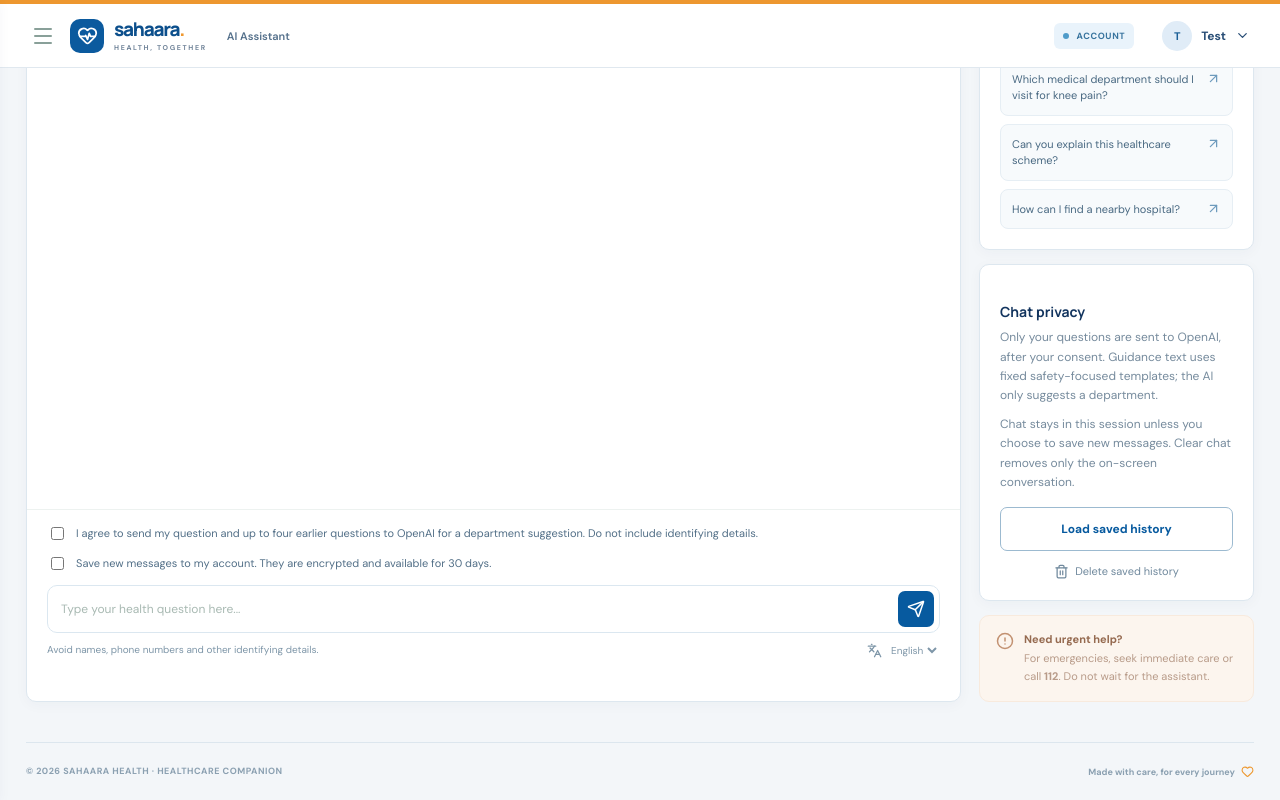
Test: account assistant sends explicit consent and handles saved history
This screenshot has width=1280, height=800.
Earlier steps of the test are not shown.
(page scrolled)
Click the checkbox labelled "I agree to send my question" at (58, 533), box [51, 527, 64, 540]
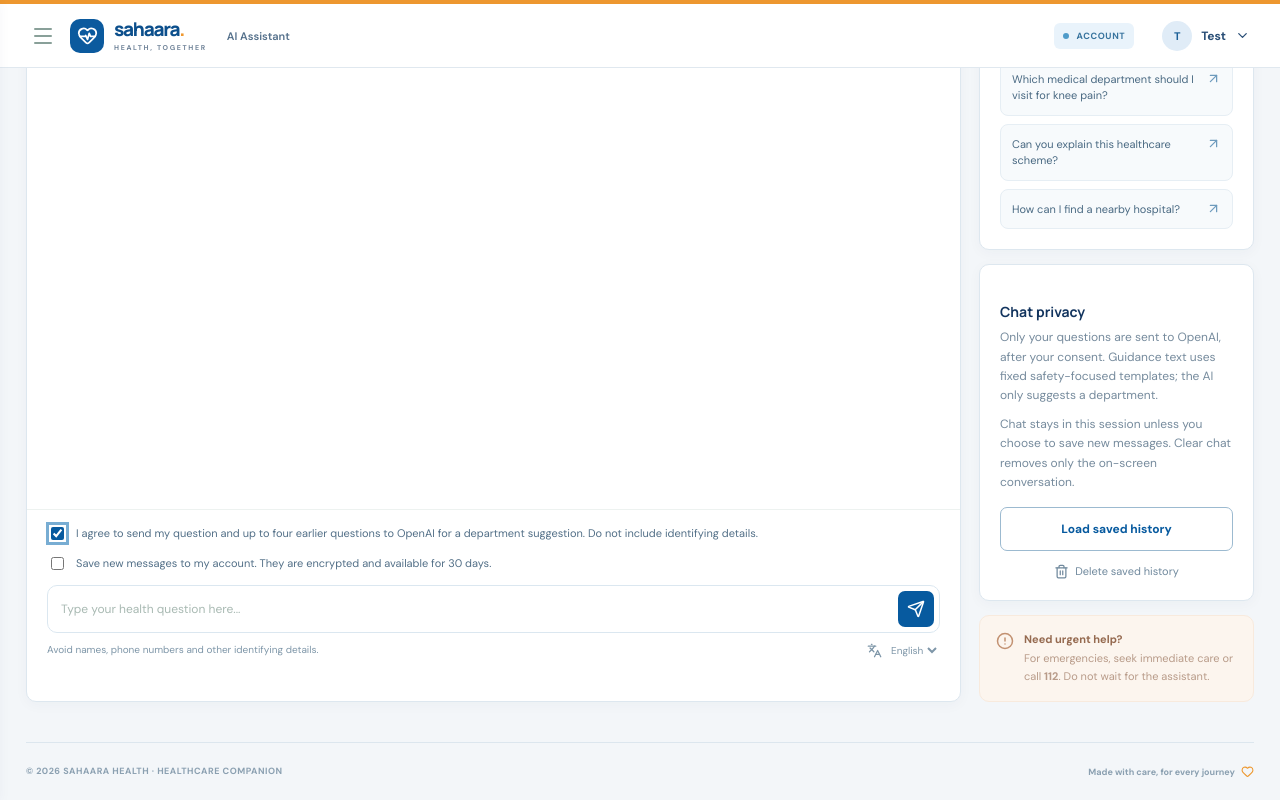
Click the checkbox labelled "Save new messages" at (58, 563), box [51, 557, 64, 570]
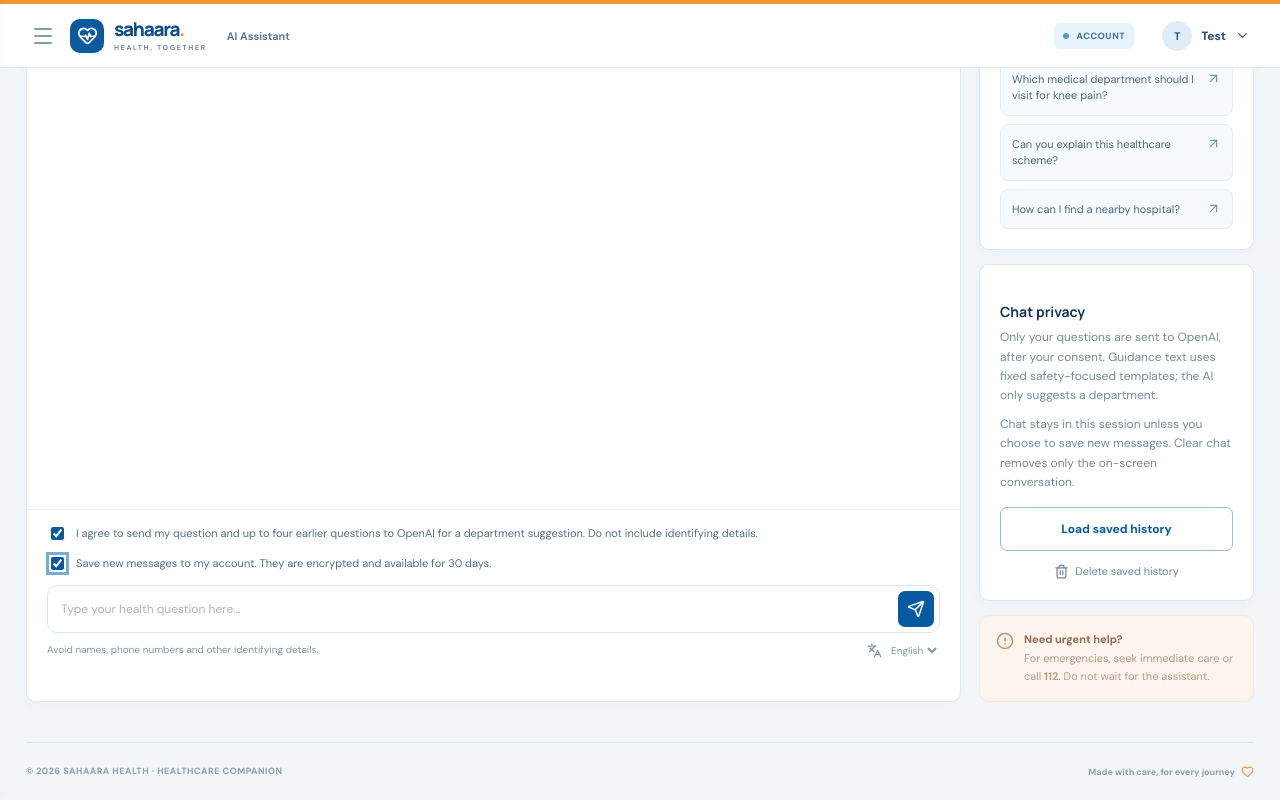
Type "knee pain" into the field labelled "health question" at (472, 609), box [53, 593, 890, 625]
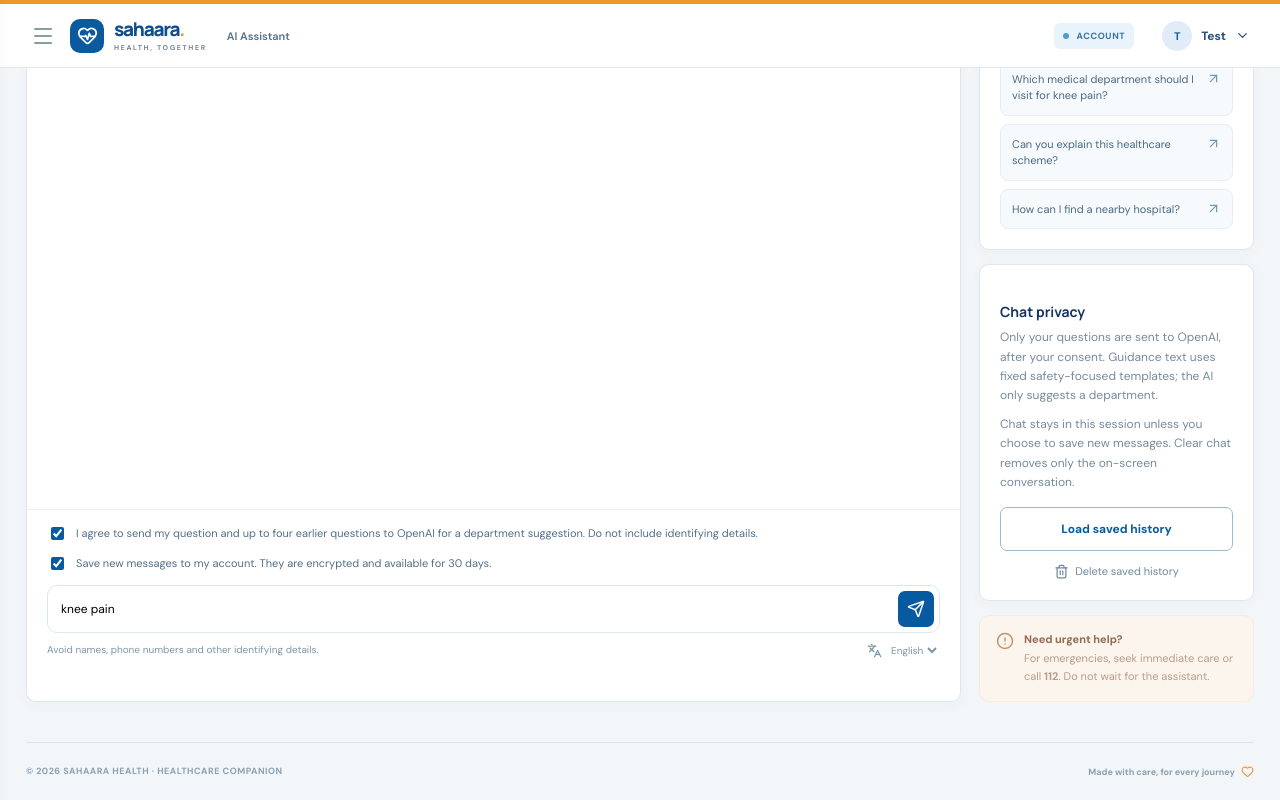
Click the button named "Send message" at (916, 609), box [898, 591, 934, 627]
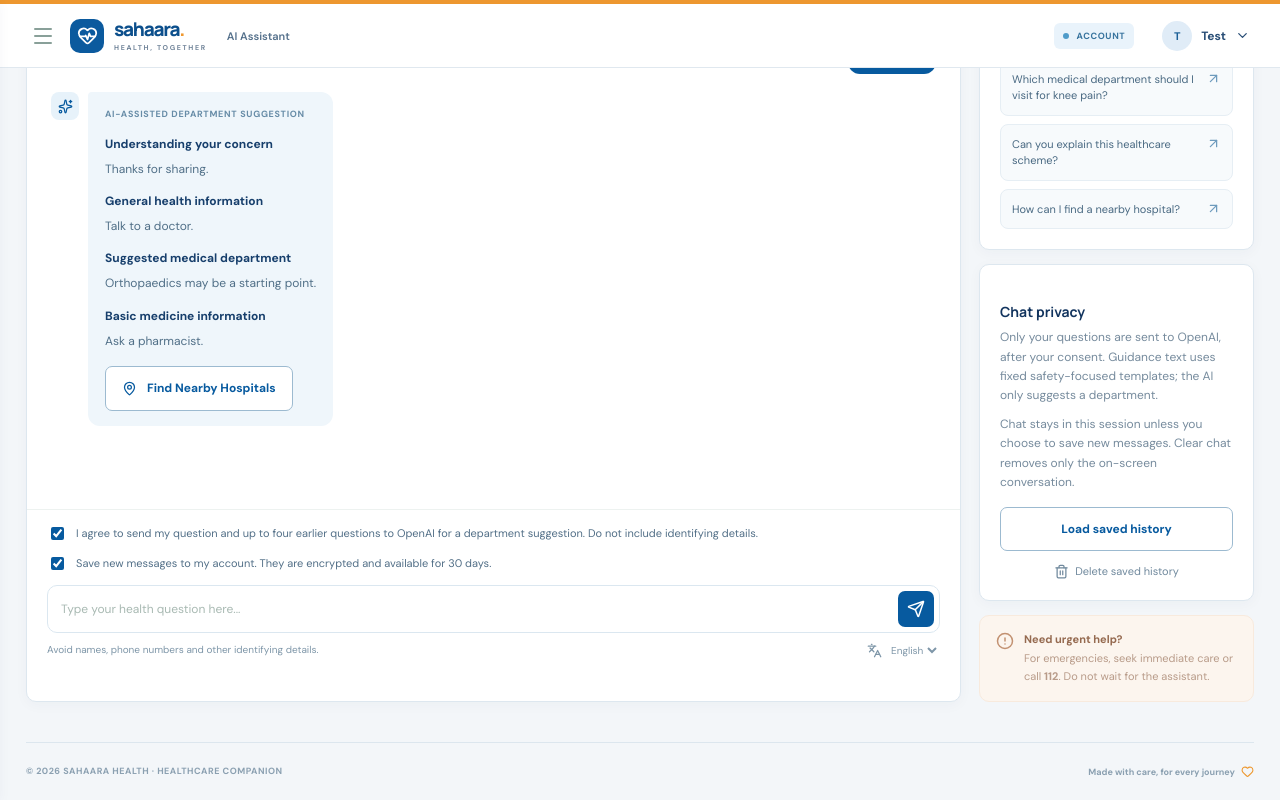
Check: the text "Orthopaedics may be a starting point." is shown, box [105, 274, 316, 294]
Click the button "Load saved history" at (1116, 529), box [1000, 507, 1233, 551]
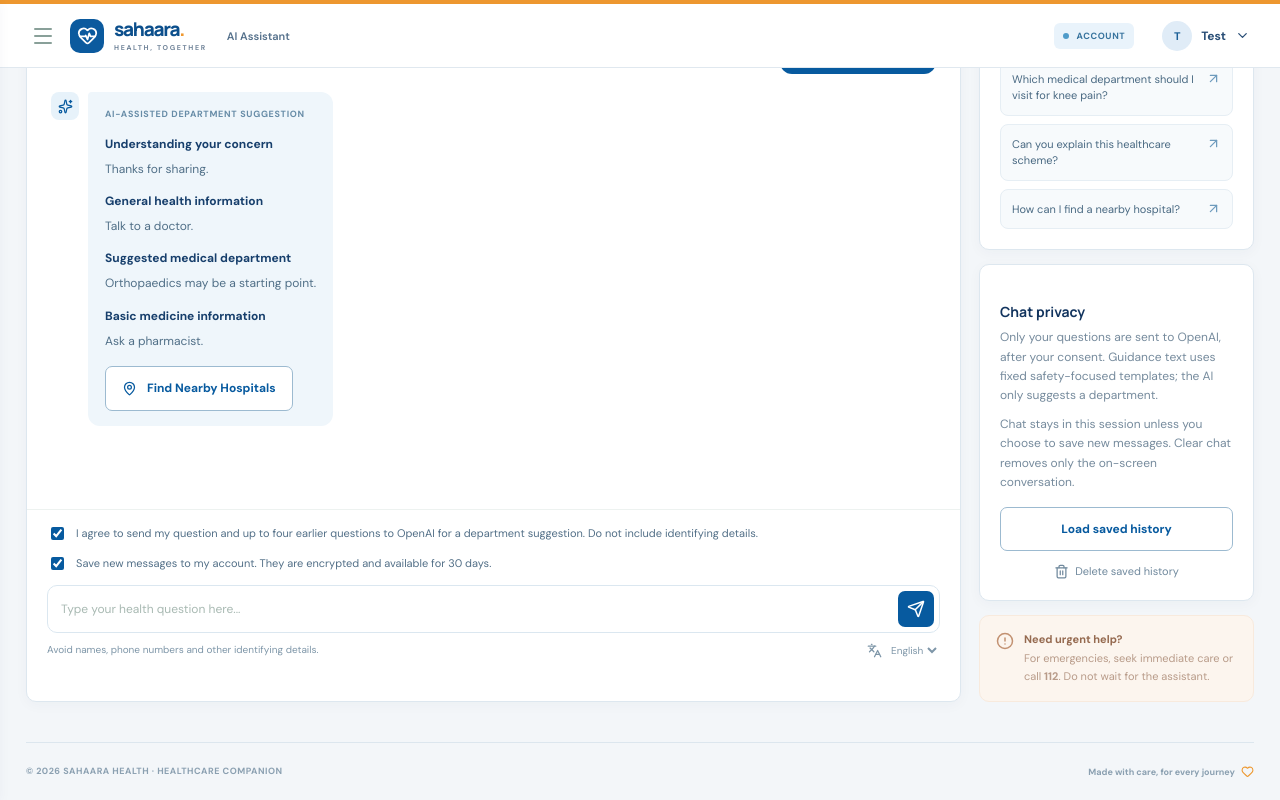
Check: the text "Earlier saved question" is shown, box [780, 25, 936, 74]
Click the button "Delete saved history" at (1116, 572), box [1000, 563, 1233, 580]
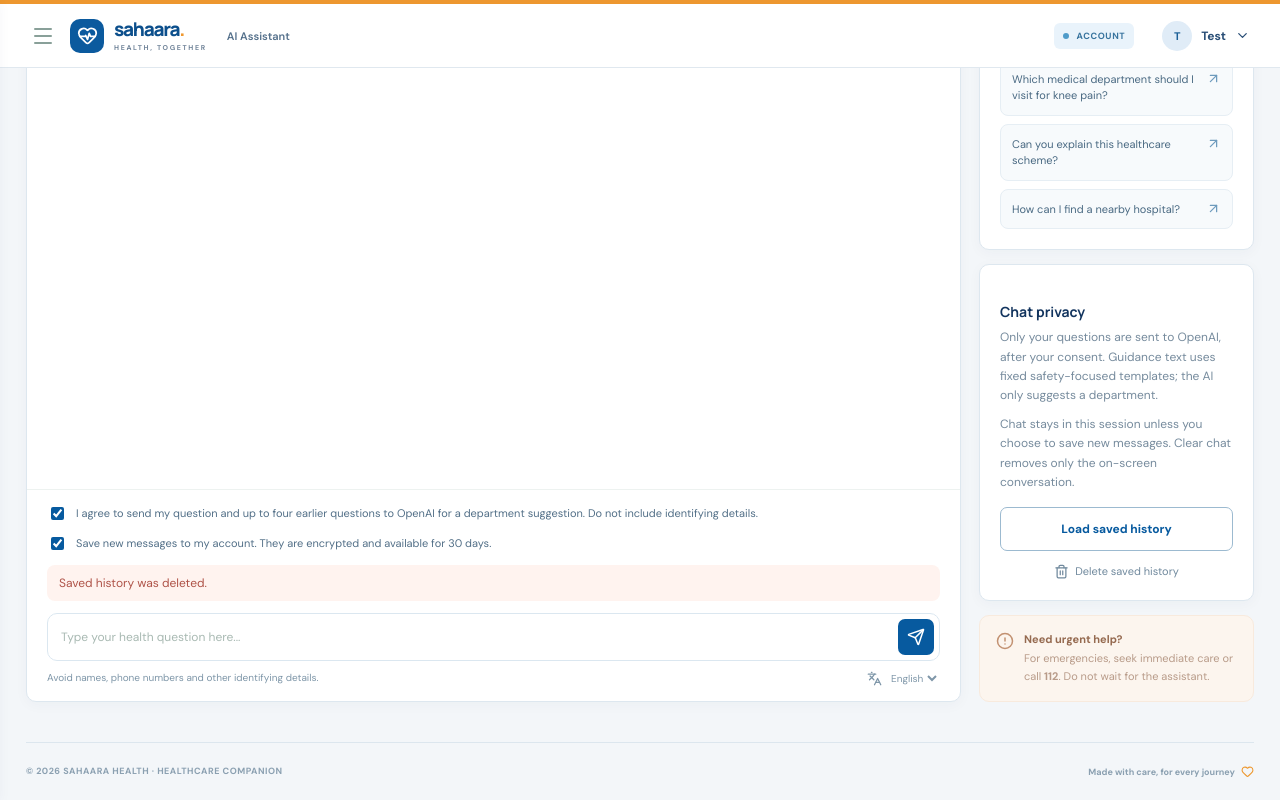
Check: the text "Earlier saved question" is gone
